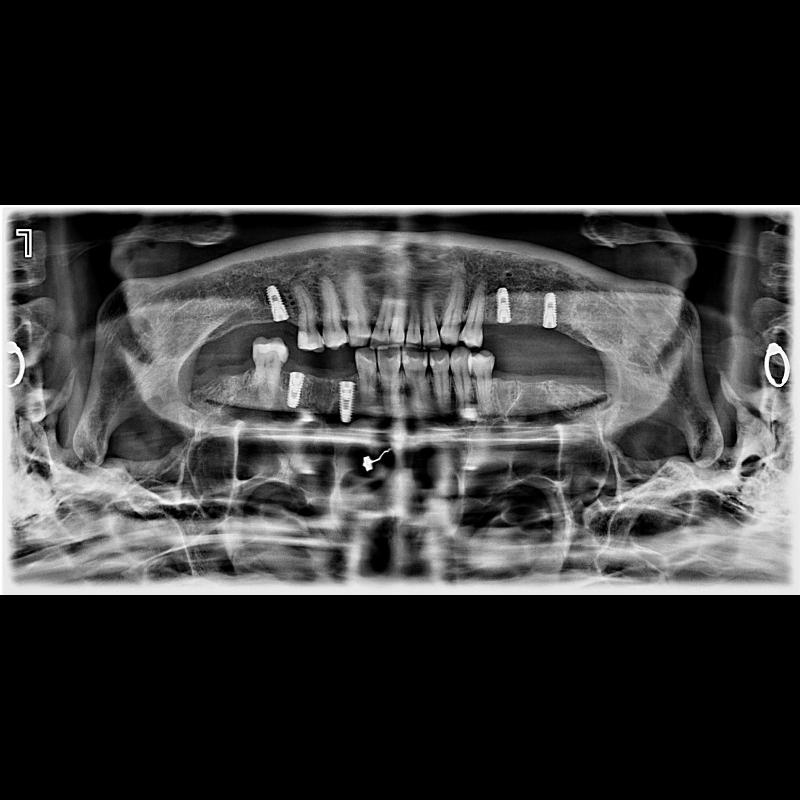osstem: (284, 365, 308, 413), (262, 284, 290, 320), (494, 284, 518, 324), (336, 382, 359, 422), (537, 292, 561, 326)
